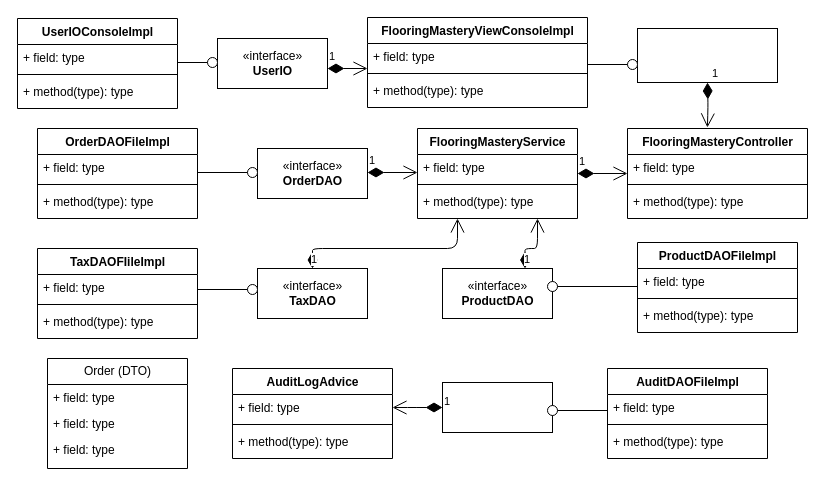
This 825x486 diagram has some shape labels left out. Each missing label, with the centre of its shape:
"«interface» AuditDAO" belongs at point 497,407.
"«interface» FlooringMasteryView" belongs at point 707,55.
